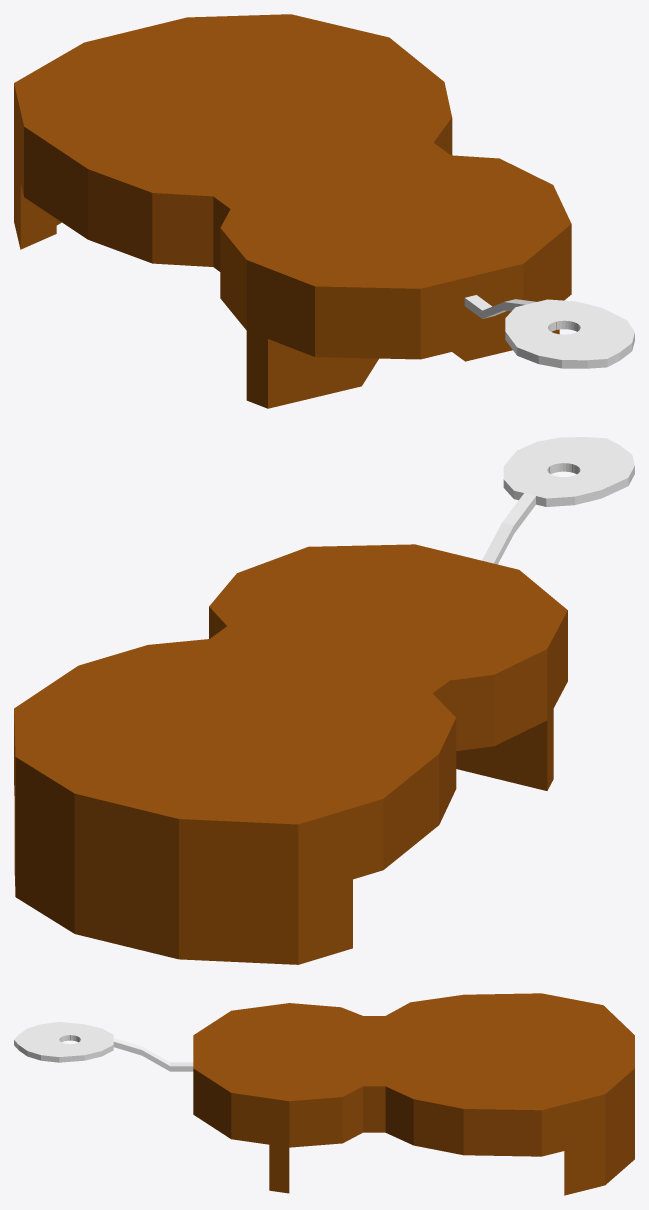
The model's file is hiramanaya.fbx.
The picture shows the model from 3 angles, top to bottom: view 1: azimuth 30°, elevation 25°; view 2: azimuth 150°, elevation 25°; view 3: azimuth 270°, elevation 25°; orthographic projection. The views are drawn at different scales.
Visible parts, largest first — view 1: Grid; view 2: Grid; view 3: Grid.
Boxes of the visible parts, x1=… form: Grid: x1=14, y1=14, x2=634, y2=408; Grid: x1=14, y1=437, x2=634, y2=964; Grid: x1=14, y1=993, x2=634, y2=1195.
Size of the model in its own units: 113 by 46.62 by 252.
